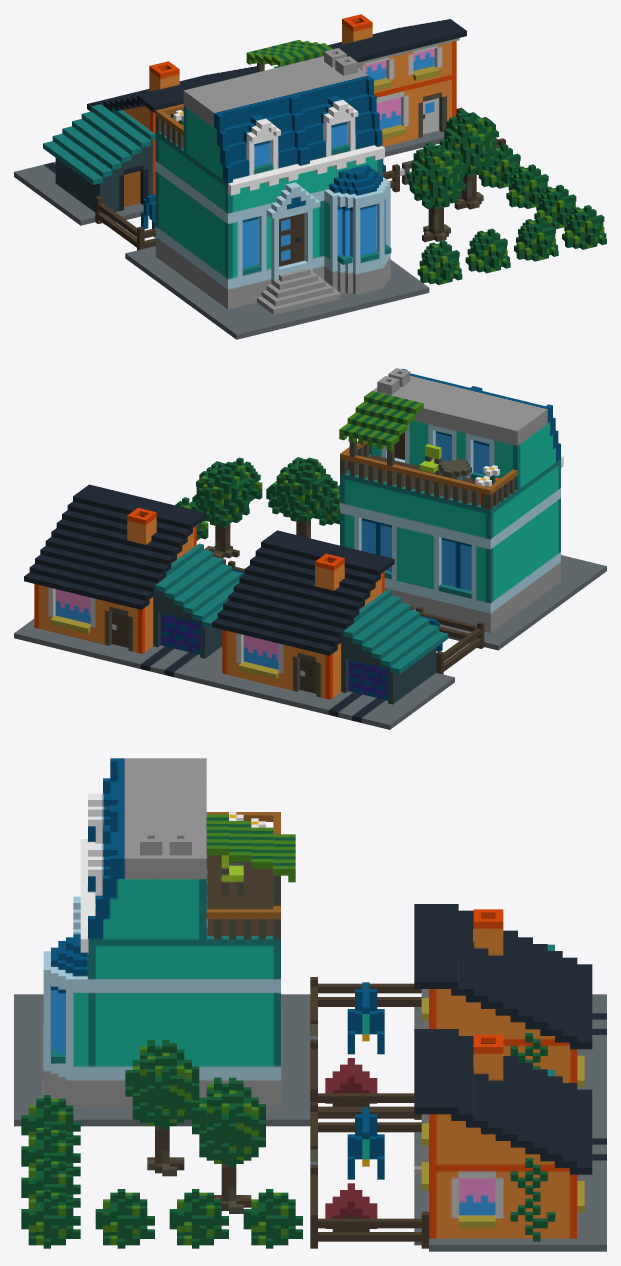
Rendered from building_small_5_overtile.glb.
3 renders of one model, top to bottom at view 1: azimuth 30°, elevation 25°; view 2: azimuth 150°, elevation 25°; view 3: azimuth 270°, elevation 25°, orthographic. The views are drawn at different scales.
Parts seen in each view (by area): view 1: building_small_5_overtile; view 2: building_small_5_overtile; view 3: building_small_5_overtile.
Boxes of the visible parts, box(x1,y1,x2,y2) form: building_small_5_overtile: box(14, 14, 606, 339); building_small_5_overtile: box(14, 368, 606, 729); building_small_5_overtile: box(14, 758, 606, 1251).
Bounding box in the file's own units: 8 × 4 × 8.
Materials: 1 (1 with a texture image).
